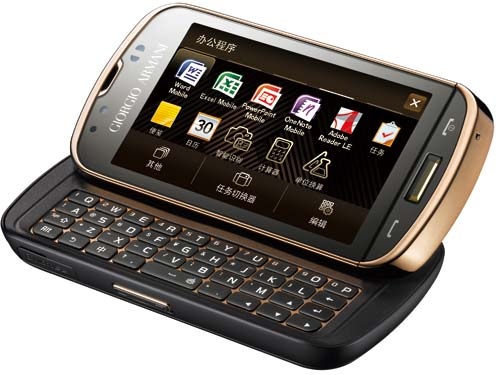phone: (67, 4, 493, 273)
